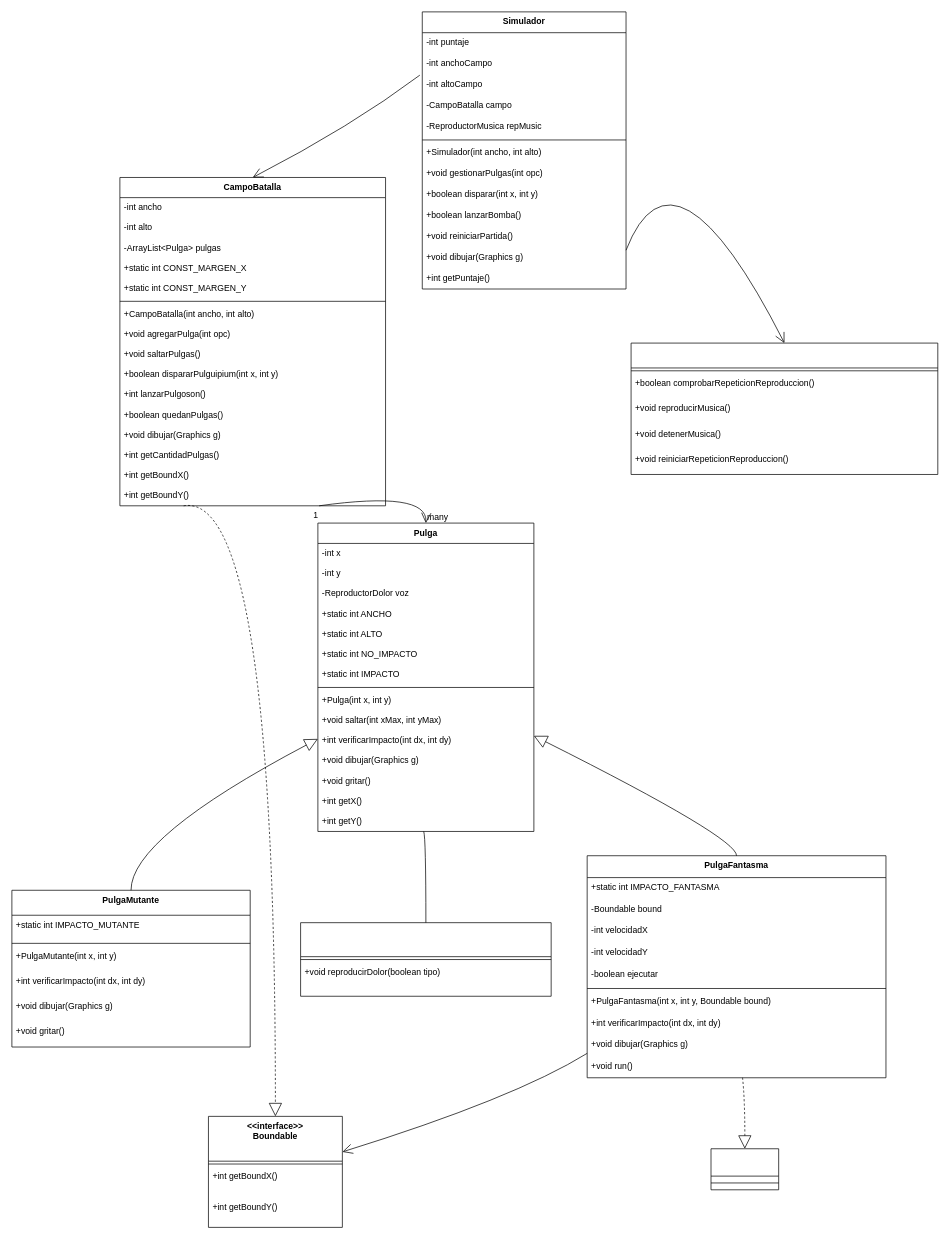
Some shapes in this 950 by 1239 pixel diagram are drawn without their labels. The shapes that lost their labels are listed below. From the top down, each one's box as (x1, y1, x2, y2) in pixels, then its label:
(630, 342, 938, 474): ReproductorMusica
(300, 922, 551, 996): ReproductorDolor
(710, 1148, 779, 1190): Runnable
